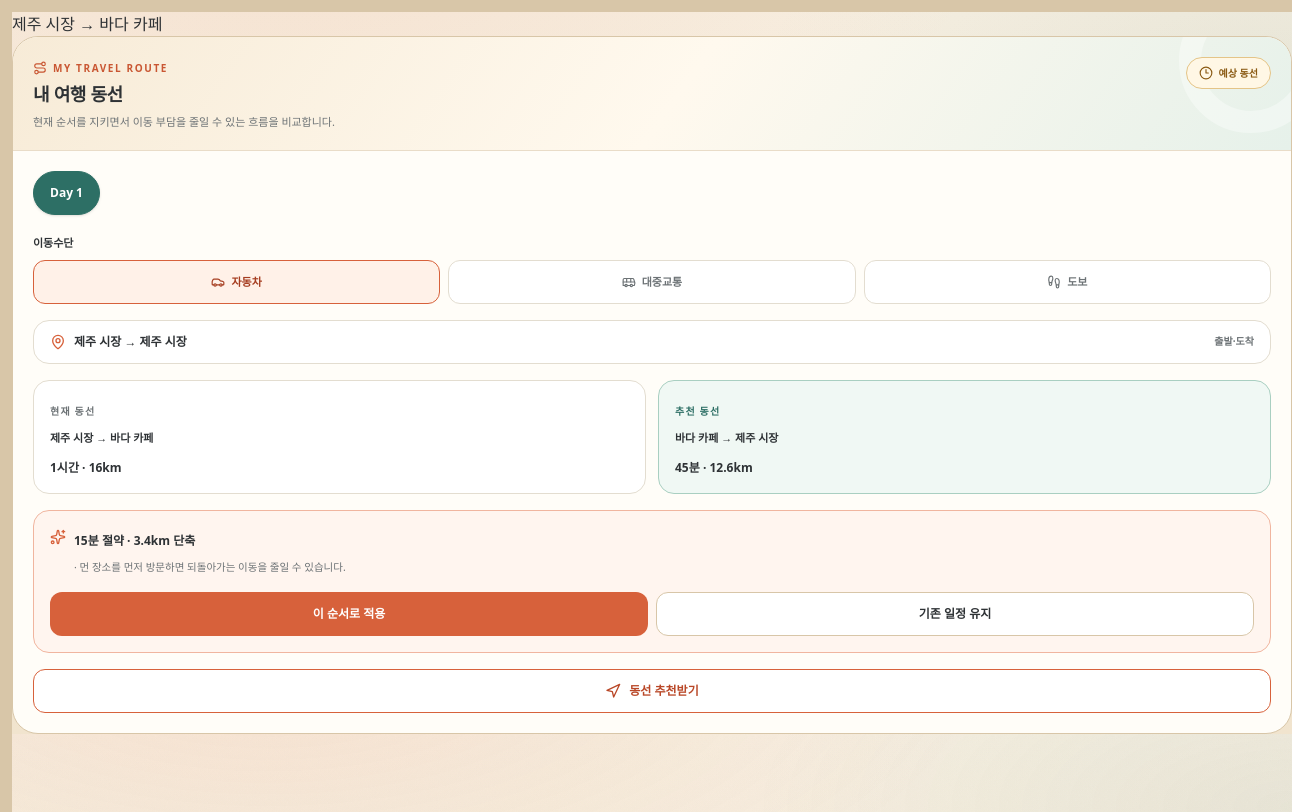
Scenario: route recommendation and saved plan integration › remembers an explicitly kept route proposal
Click the button "기존 일정 유지": coordinates (955, 614) [656, 592, 1254, 636]
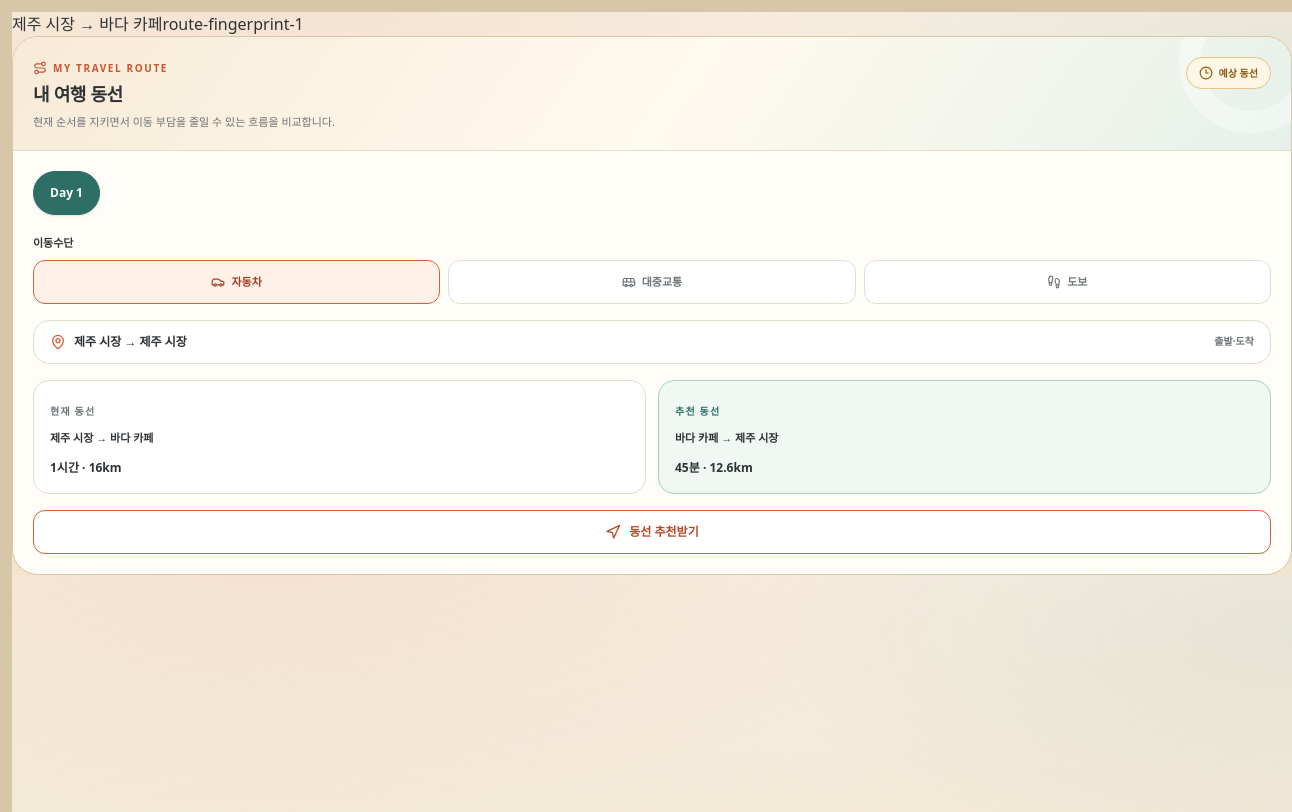
expect the text named "유지한 동선 제안" reads "route-fingerprint-1": met, box [162, 13, 304, 35]
expect the button "이 순서로 적용" is gone: met
